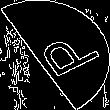P_SW: (17, 26, 93, 84)
